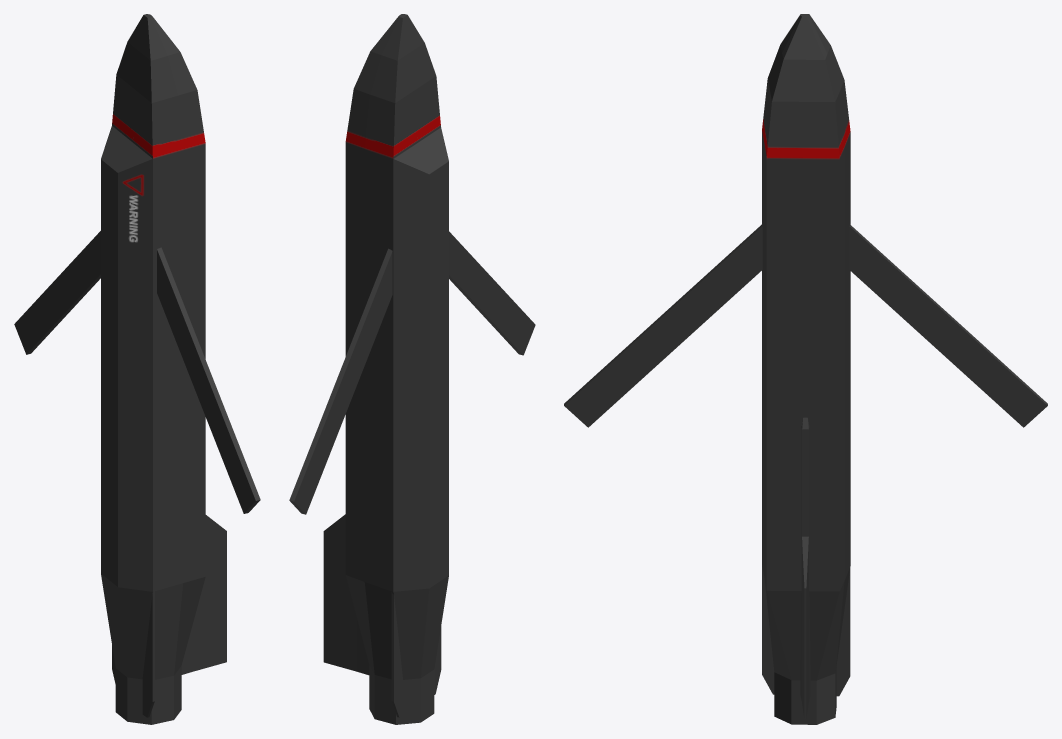
Rendered from cruise_missile_open.fbx.
3 views of the same model, side by side, from view 1: azimuth 30°, elevation 25°; view 2: azimuth 150°, elevation 25°; view 3: azimuth 270°, elevation 25° (orthographic).
Visible parts, largest first — view 1: cruise_missile_body_open, cruise_missile_wing_open.001, cruise_missile_vertfin_open, cruise_missile_wing_open; view 2: cruise_missile_body_open, cruise_missile_wing_open, cruise_missile_vertfin_open, cruise_missile_wing_open.001; view 3: cruise_missile_body_open, cruise_missile_wing_open.001, cruise_missile_wing_open, cruise_missile_vertfin_open.
Part boxes in pixels (<box>): cruise_missile_body_open: <box>101,14,205,724</box>; cruise_missile_wing_open.001: <box>157,247,260,513</box>; cruise_missile_vertfin_open: <box>194,515,226,671</box>; cruise_missile_wing_open: <box>14,231,100,354</box>; cruise_missile_body_open: <box>345,14,448,724</box>; cruise_missile_wing_open: <box>289,248,392,514</box>; cruise_missile_vertfin_open: <box>323,514,356,671</box>; cruise_missile_wing_open.001: <box>449,231,535,355</box>; cruise_missile_body_open: <box>762,14,850,724</box>; cruise_missile_wing_open.001: <box>564,224,762,427</box>; cruise_missile_wing_open: <box>849,225,1047,427</box>; cruise_missile_vertfin_open: <box>802,536,808,719</box>.
Bounding box in the file's own units: 24.58 × 140 × 88.09.
1 material, 1 textured.
